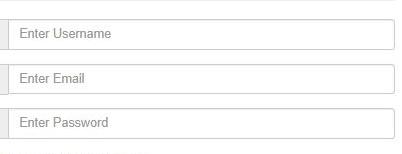field: (6, 17, 395, 52), (6, 106, 397, 140), (5, 62, 397, 95)
